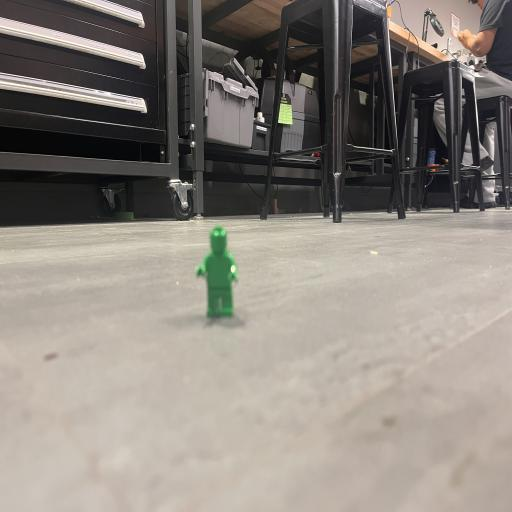Lego-Minifig: (207, 282, 233, 316)
